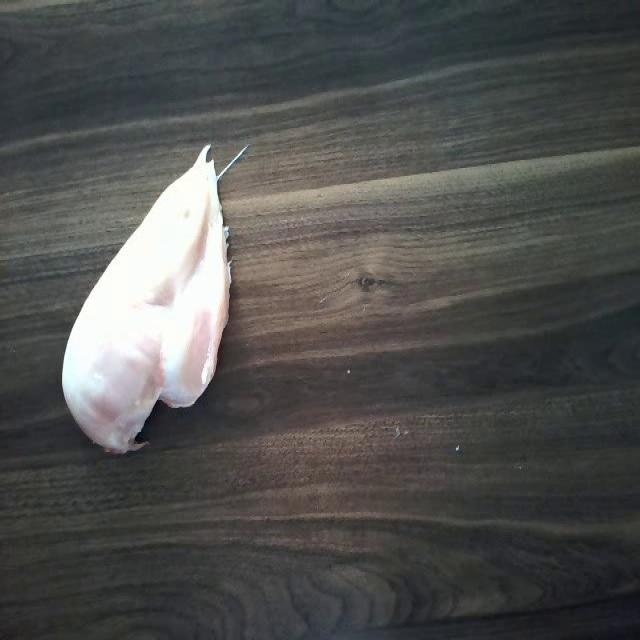breast: (66, 148, 240, 444)
